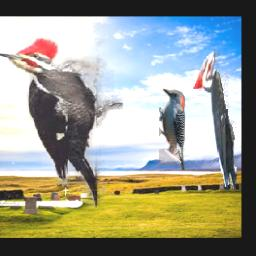Woodpecker: (0, 38, 123, 208), (192, 42, 236, 190), (158, 87, 184, 171)
